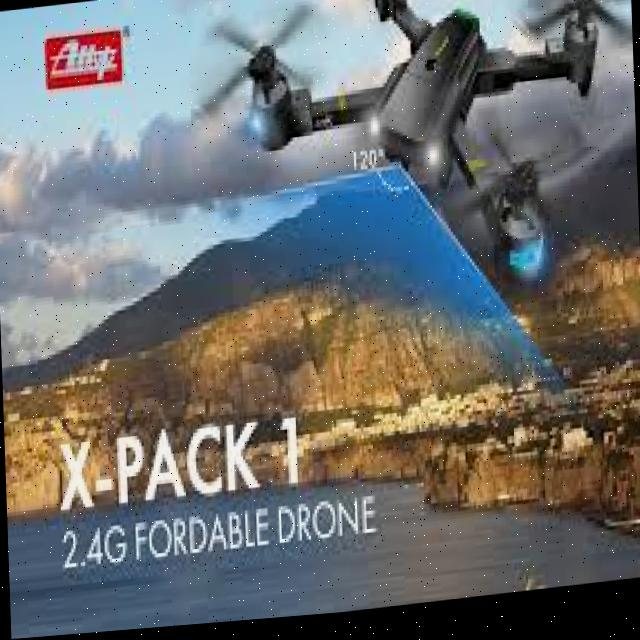drone: (208, 0, 640, 343)
